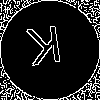K: (25, 25, 65, 75)
